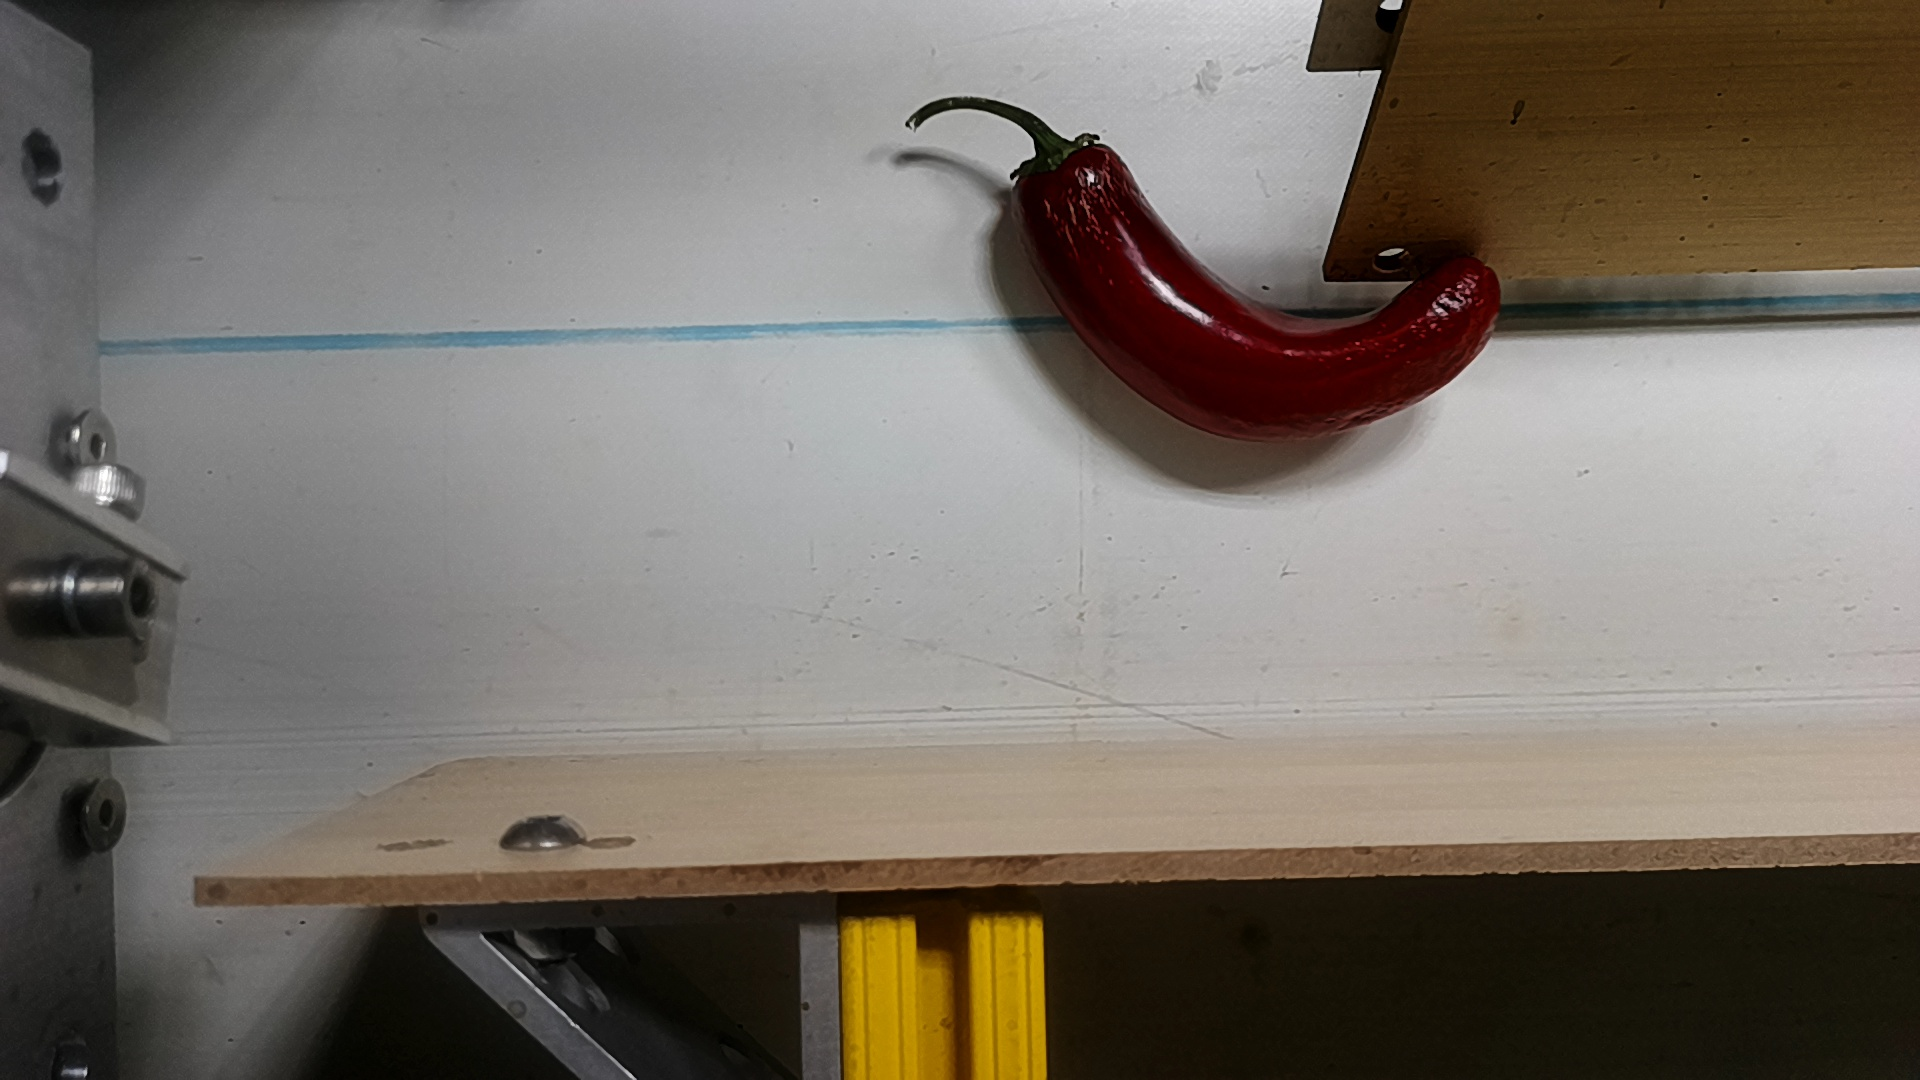Cut Point: (982, 107, 1150, 225)
